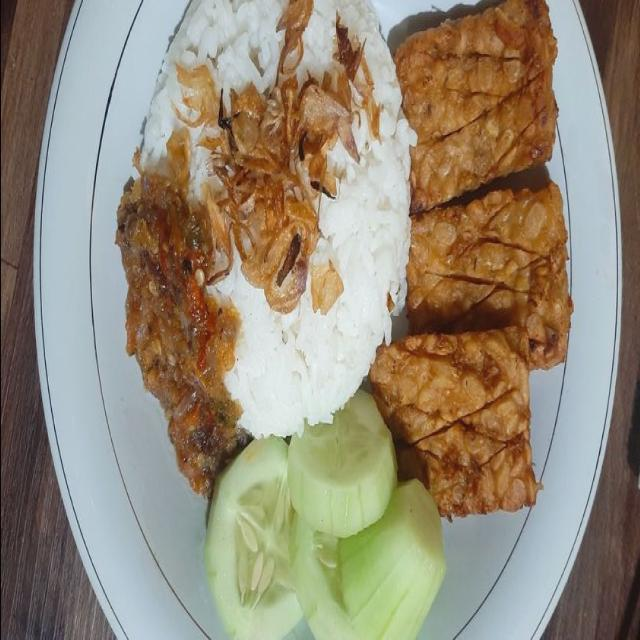nasi: (178, 0, 413, 439)
tempe goreng: (364, 316, 537, 521), (391, 0, 556, 213), (403, 161, 569, 370)
